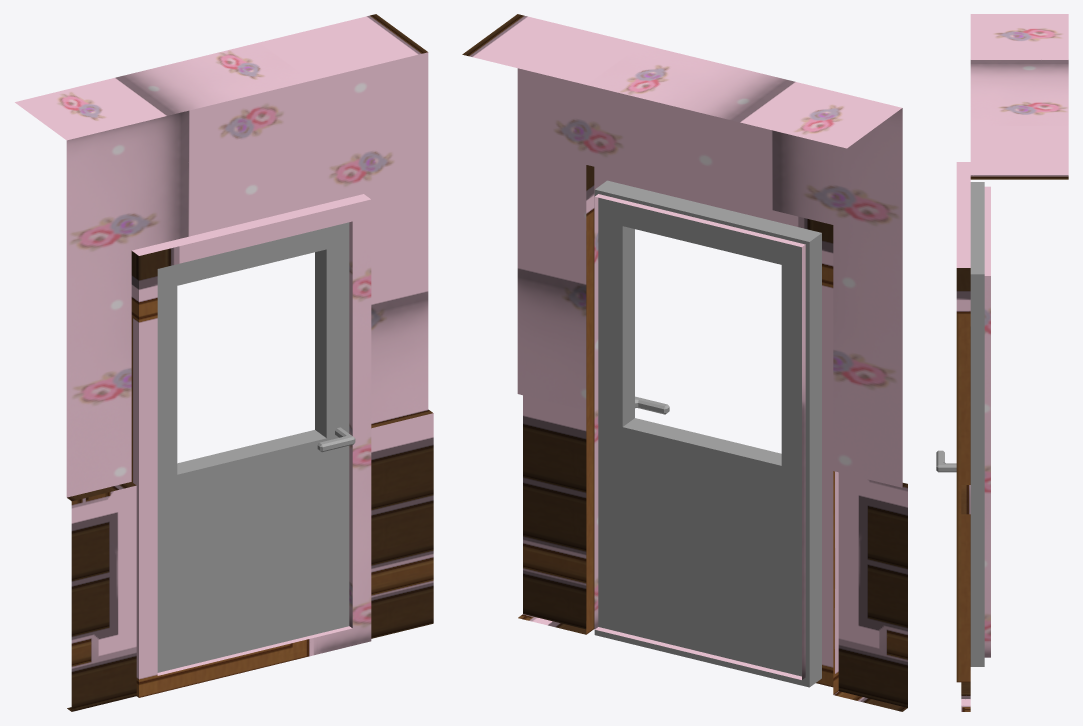
Rendered from Door2.fbx.
3 renders of one model, left to right at view 1: azimuth 30°, elevation 25°; view 2: azimuth 150°, elevation 25°; view 3: azimuth 270°, elevation 25°, orthographic. The views are drawn at different scales.
Visible parts, largest first — view 1: DoorWall, polySurface3; view 2: DoorWall, polySurface3; view 3: DoorWall, polySurface3.
Part boxes in pixels (<box>): DoorWall: <box>15,14,433,711</box>; polySurface3: <box>157,222,355,672</box>; DoorWall: <box>462,14,907,711</box>; polySurface3: <box>594,180,821,687</box>; DoorWall: <box>956,14,1068,711</box>; polySurface3: <box>936,182,984,666</box>.
Size of the model in its own units: 200 by 300 by 67.56.
